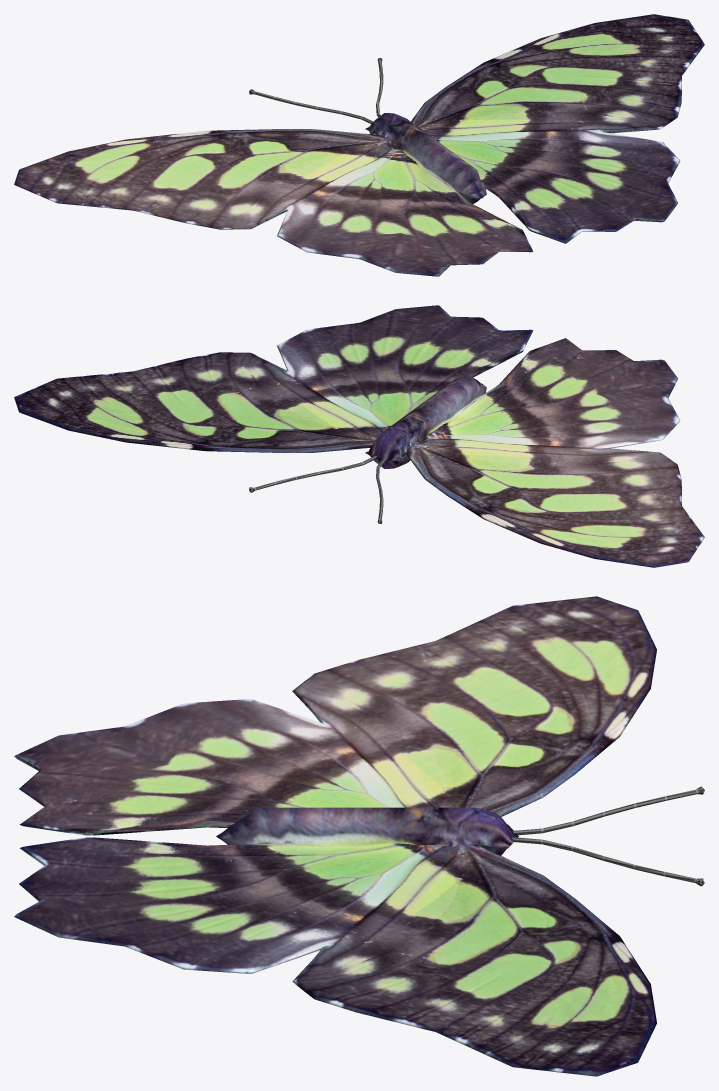
File: Siproetastelenes.glb
3 views of the same model, one above another, from view 1: azimuth 30°, elevation 25°; view 2: azimuth 150°, elevation 25°; view 3: azimuth 270°, elevation 25° (orthographic). The views are drawn at different scales.
Visible parts, largest first — view 1: Mariposa_02; view 2: Mariposa_02; view 3: Mariposa_02.
Part boxes in pixels (bbox=[...]): Mariposa_02: bbox=[14, 14, 704, 276]; Mariposa_02: bbox=[14, 305, 704, 567]; Mariposa_02: bbox=[14, 596, 704, 1076].
Bounding box in the file's own units: 8.21 × 0.4622 × 5.
1 material, 1 textured.
